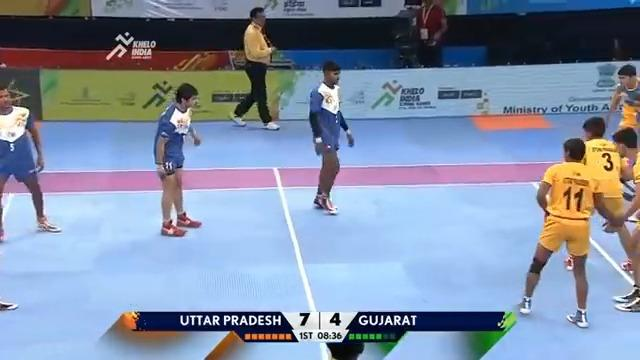Player: (515, 135, 624, 329), (0, 82, 63, 241), (150, 80, 204, 238), (579, 108, 634, 229), (615, 66, 638, 116)
Raider: (306, 58, 356, 216)
referee: (227, 6, 280, 130)
